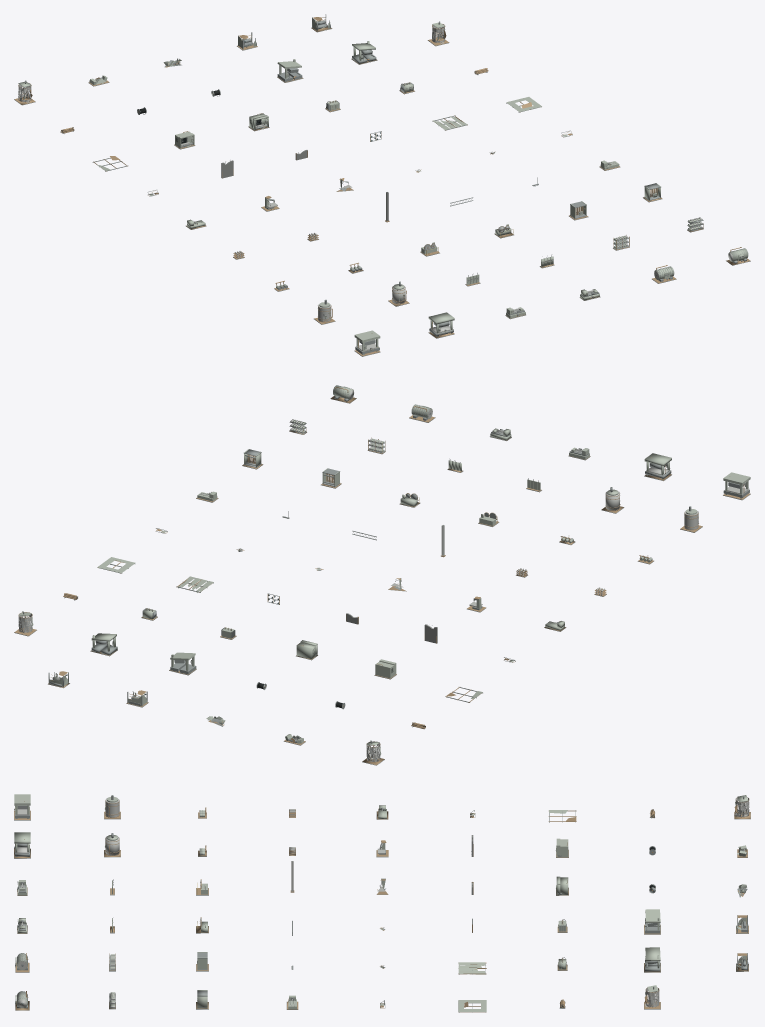
Rendered from ruin-kit.glb.
3 renders of one model, top to bottom at view 1: azimuth 30°, elevation 25°; view 2: azimuth 150°, elevation 25°; view 3: azimuth 270°, elevation 25°, orthographic. The views are drawn at different scales.
Visible parts, largest first — view 1: no part large enough to name; view 2: no part large enough to name; view 3: Far_pressline, Kit_pressline, Kit_press_shattered, Far_press_shattered.
Boxes of the visible parts, <box> form: Far_pressline: <box>14,832,30,858</box>; Kit_pressline: <box>14,794,30,820</box>; Kit_press_shattered: <box>644,909,660,934</box>; Far_press_shattered: <box>644,947,660,972</box>.
Size of the model in its own units: 170 by 12.7 by 262.
